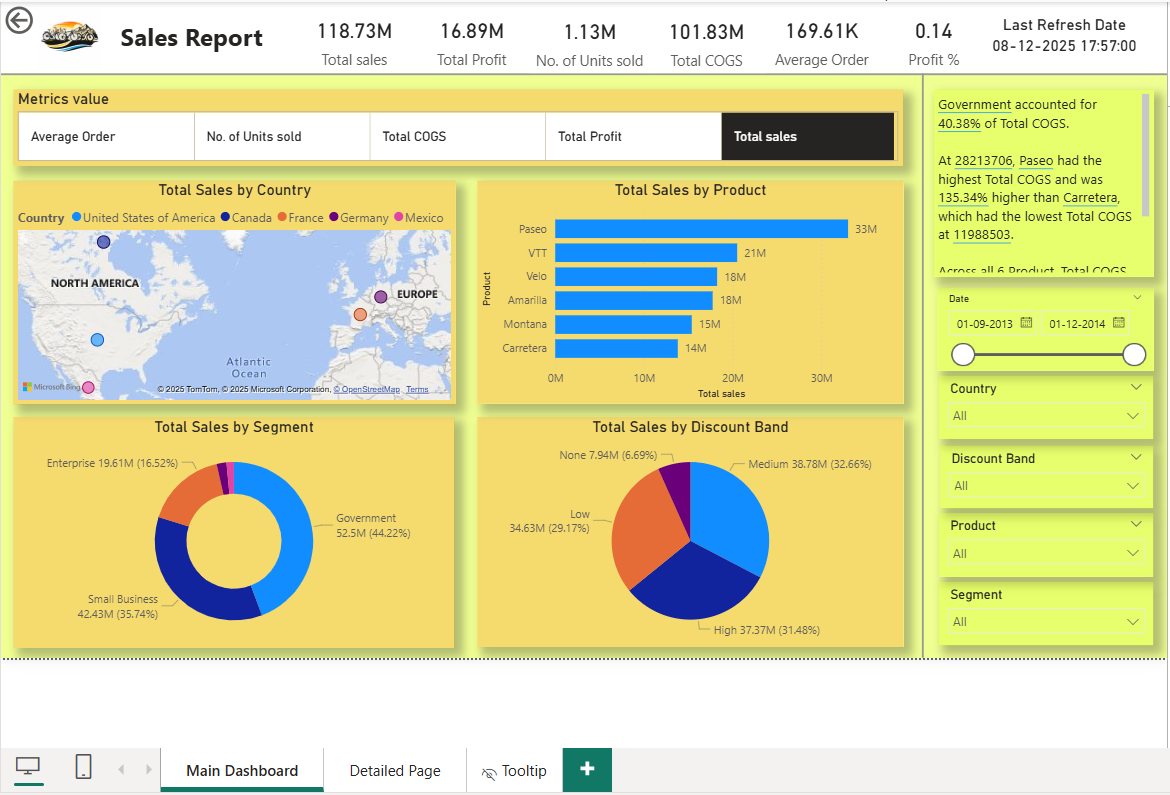

This screenshot's page, from the dashboard's own definition file:
{"tool":"powerbi","page":{"name":"Main Dashboard","canvas":[1280,720],"ordinal":0},"visuals":[{"type":"shape","box":[0,0,1280,78.6],"z":0},{"type":"shape","box":[0,70.9,1280.3,15.9],"z":1000},{"type":"textbox","box":[126.2,15.1,274.4,49.4],"z":2000},{"type":"card","title":"Last Refresh Date","fields":{"Values":["Min(LastRefreshDate.LastRefresh)"]},"box":[1070.4,15.1,194.5,48.4],"z":3000},{"type":"shape","box":[1006.4,78.3,12.2,642],"z":4000},{"type":"map","title":"Total Sales by Country","fields":{"Size":["financials.Total sales"],"Category":["financials.Country"],"Series":["financials.Country"]},"box":[13.7,196.2,485.8,245.6],"z":5000},{"type":"donutChart","title":"Total Sales by Segment","fields":{"Y":["financials.Total sales"],"Category":["financials.Segment"]},"box":[13.7,455.6,484.4,253.9],"z":6000},{"type":"pieChart","title":"Total Sales by Discount Band","fields":{"Y":["financials.Total sales"],"Category":["financials.Discount Band"]},"box":[522.1,456.1,468.3,253.1],"z":7000},{"type":"clusteredBarChart","title":"Total Sales by Product","fields":{"Y":["financials.Total sales"],"Category":["financials.Product"]},"box":[522.1,196.9,468.3,244.6],"z":8000},{"type":"slicer","fields":{"Values":["financials.Date"]},"box":[1027.8,314.2,237.4,90.6],"z":9000},{"type":"slicer","fields":{"Values":["financials.Country"]},"box":[1029.2,410.3,236,70],"z":10000},{"type":"slicer","fields":{"Values":["financials.Discount Band"]},"box":[1030.5,487.1,234.6,68.6],"z":11000},{"type":"slicer","fields":{"Values":["financials.Product"]},"box":[1029.2,561.2,236,70],"z":12000},{"type":"slicer","fields":{"Values":["financials.Segment"]},"box":[1029.2,636.7,236,70],"z":13000},{"type":"actionButton","box":[0,0,100,40],"z":14000},{"type":"advancedSlicerVisual","title":"Metrics value ","fields":{"Values":["Metrics value.Metrics value"]},"box":[13.7,96.1,977,83.7],"z":15000},{"type":"card","fields":{"Values":["financials.Average Order"]},"box":[837.6,6.1,128.4,72.1],"z":16000},{"type":"card","fields":{"Values":["financials.Profit %"]},"box":[966,6.1,116.2,72.1],"z":17000},{"type":"card","fields":{"Values":["financials.No. of Units sold"]},"box":[581.8,6.9,129,71.4],"z":18000},{"type":"card","fields":{"Values":["financials.Total sales"]},"box":[324.1,6.1,128.4,72.1],"z":19000},{"type":"card","fields":{"Values":["financials.Total Profit"]},"box":[452.4,6.1,128.4,72.1],"z":20000},{"type":"card","fields":{"Values":["financials.Total COGS"]},"box":[710.8,6.9,127.6,71.4],"z":21000},{"type":"textbox","box":[1023.7,96.1,241.5,205.8],"z":22000},{"type":"image","box":[35.7,2.7,79.6,78.2],"z":23000}]}

Visuals, with their boxes on the page's 1280x720 design canvas (x1, y1, x2, y2). These are canvas units, not pixel positions in the 1170x795 screenshot, which may show the page scaled, cropped or inside an application window:
shape: box(0, 0, 1280, 79)
shape: box(0, 71, 1280, 87)
textbox: box(126, 15, 401, 64)
"Last Refresh Date" card: box(1070, 15, 1265, 64)
shape: box(1006, 78, 1019, 720)
"Total Sales by Country" map: box(14, 196, 500, 442)
"Total Sales by Segment" donutChart: box(14, 456, 498, 710)
"Total Sales by Discount Band" pieChart: box(522, 456, 990, 709)
"Total Sales by Product" clusteredBarChart: box(522, 197, 990, 442)
slicer - financials.Date: box(1028, 314, 1265, 405)
slicer - financials.Country: box(1029, 410, 1265, 480)
slicer - financials.Discount Band: box(1030, 487, 1265, 556)
slicer - financials.Product: box(1029, 561, 1265, 631)
slicer - financials.Segment: box(1029, 637, 1265, 707)
actionButton: box(0, 0, 100, 40)
"Metrics value " advancedSlicerVisual: box(14, 96, 991, 180)
card - financials.Average Order: box(838, 6, 966, 78)
card - financials.Profit %: box(966, 6, 1082, 78)
card - financials.No. of Units sold: box(582, 7, 711, 78)
card - financials.Total sales: box(324, 6, 452, 78)
card - financials.Total Profit: box(452, 6, 581, 78)
card - financials.Total COGS: box(711, 7, 838, 78)
textbox: box(1024, 96, 1265, 302)
image: box(36, 3, 115, 81)
